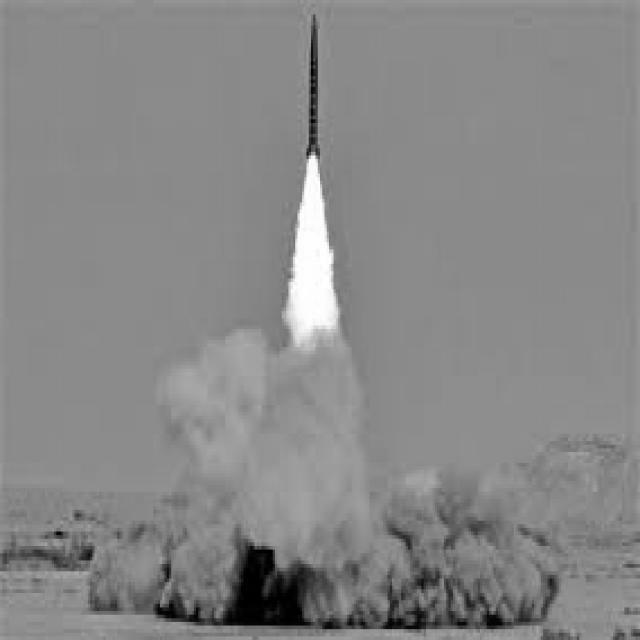Missile: (304, 9, 322, 165)
